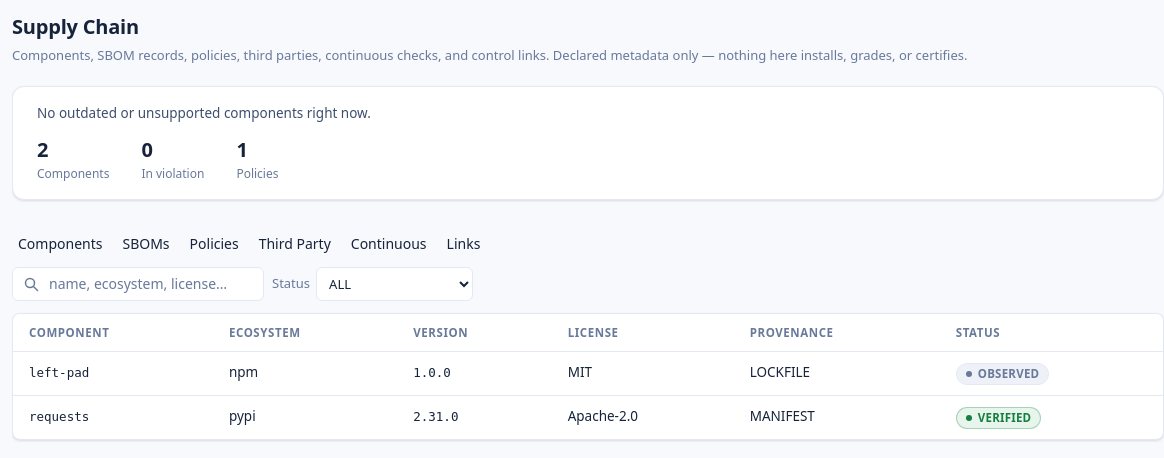
it: SupplyChain view › shows SBOM, policy, and link tabs
Expected: the text "left-pad" is shown, [29,365,89,380]
Click the tab "SBOMs".
click(146, 243)  # box [116,232,176,255]
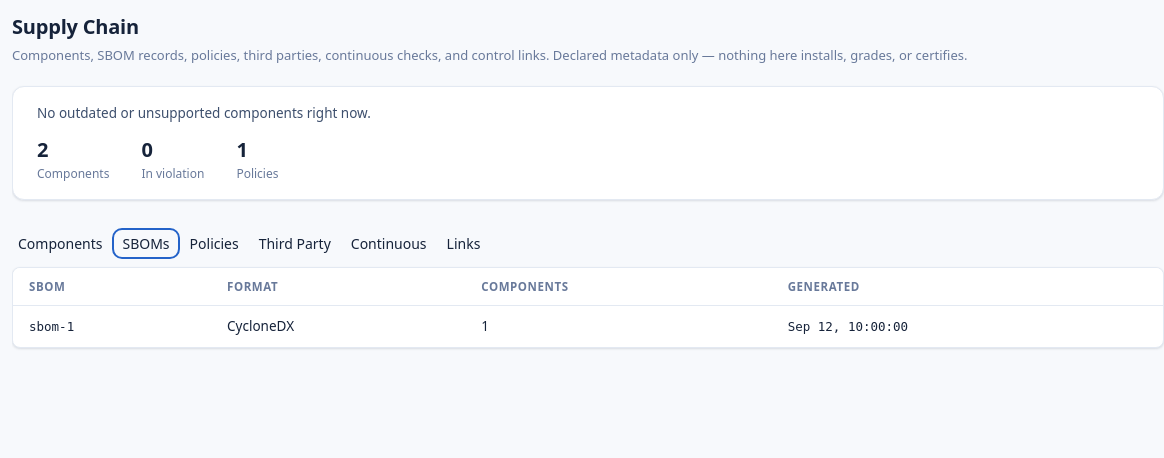
Expected: the text "CycloneDX" is shown, [211,306,465,347]
Click the tab "Policies".
click(214, 243)  # box [184,232,245,255]
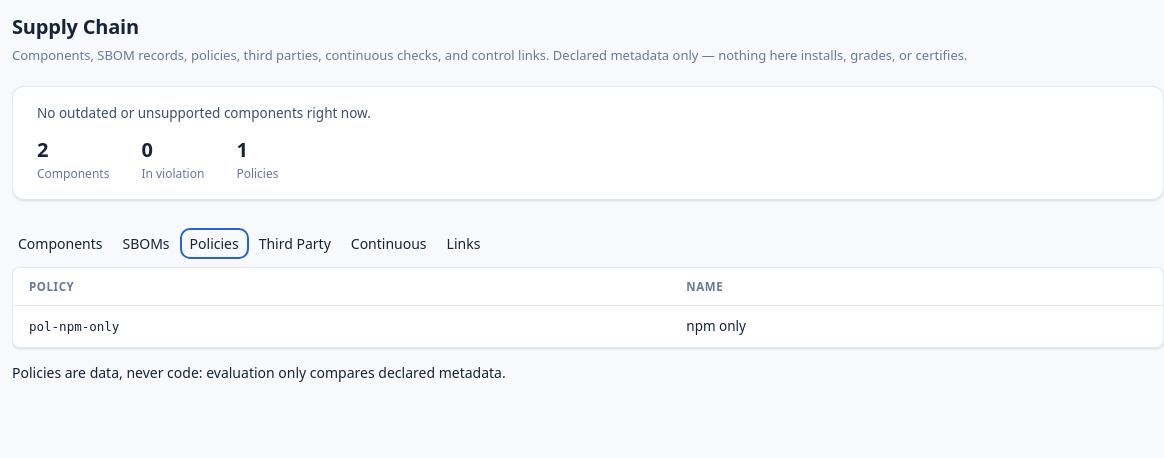
Expected: the text "pol-npm-only" is shown, [29,319,119,334]
Click the tab "Links".
click(464, 243)  # box [441,232,486,255]
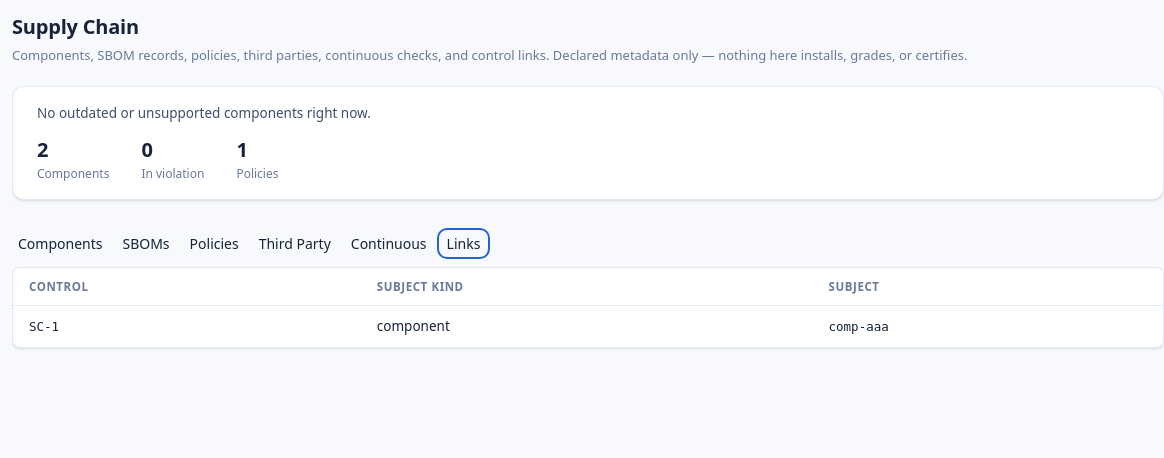
Expected: the text "SC-1" is shown, [29,319,59,334]
